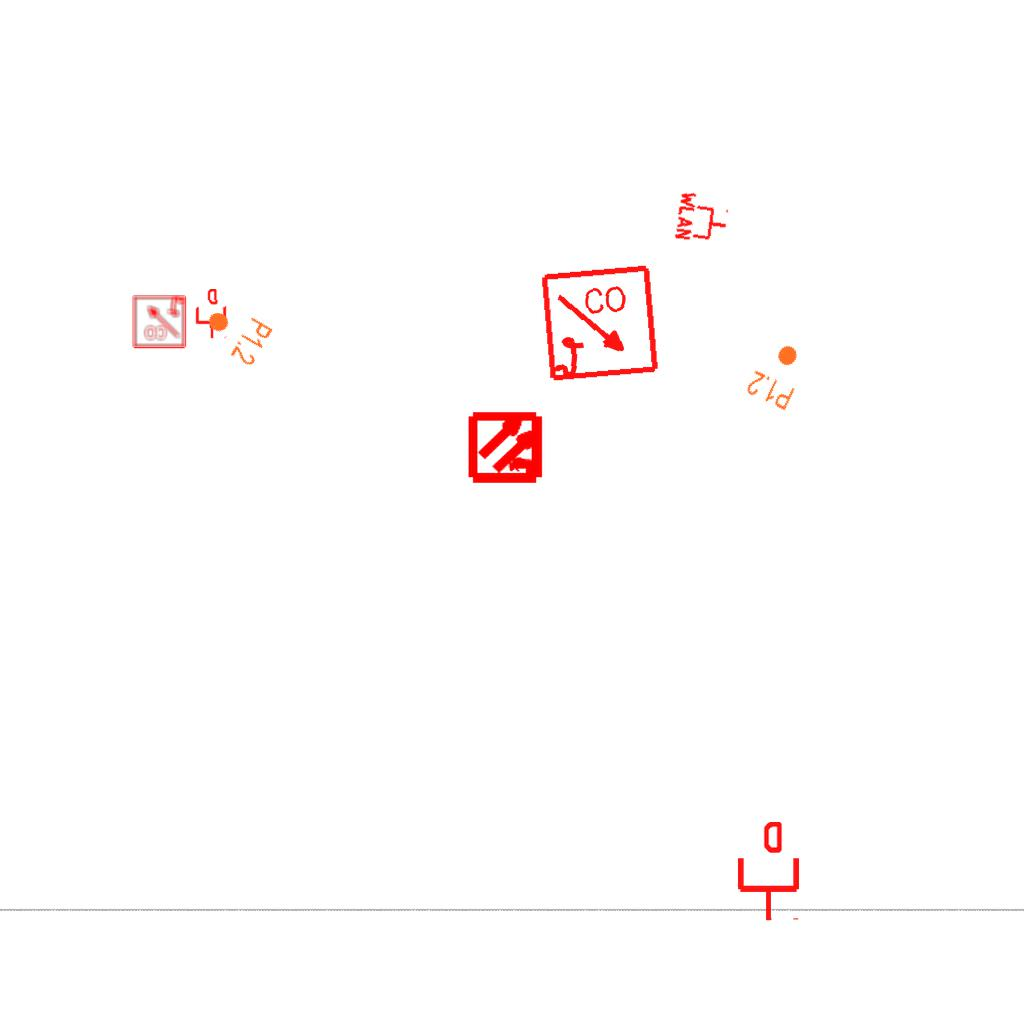Datenanschluss_einfach: (734, 822, 803, 922), (193, 288, 229, 340)
Downlight_LED_Einbauleuchten_Flur: (196, 297, 276, 369), (743, 335, 813, 413)
OT_Multisensormelder_(Kombination_RMO_WMD): (451, 391, 564, 504)
ROA_Rauchmelder_optisch_mit_Signalgeber_(Sockelsirene): (539, 263, 662, 386), (131, 293, 187, 349)
WLAN: (673, 188, 733, 248)
